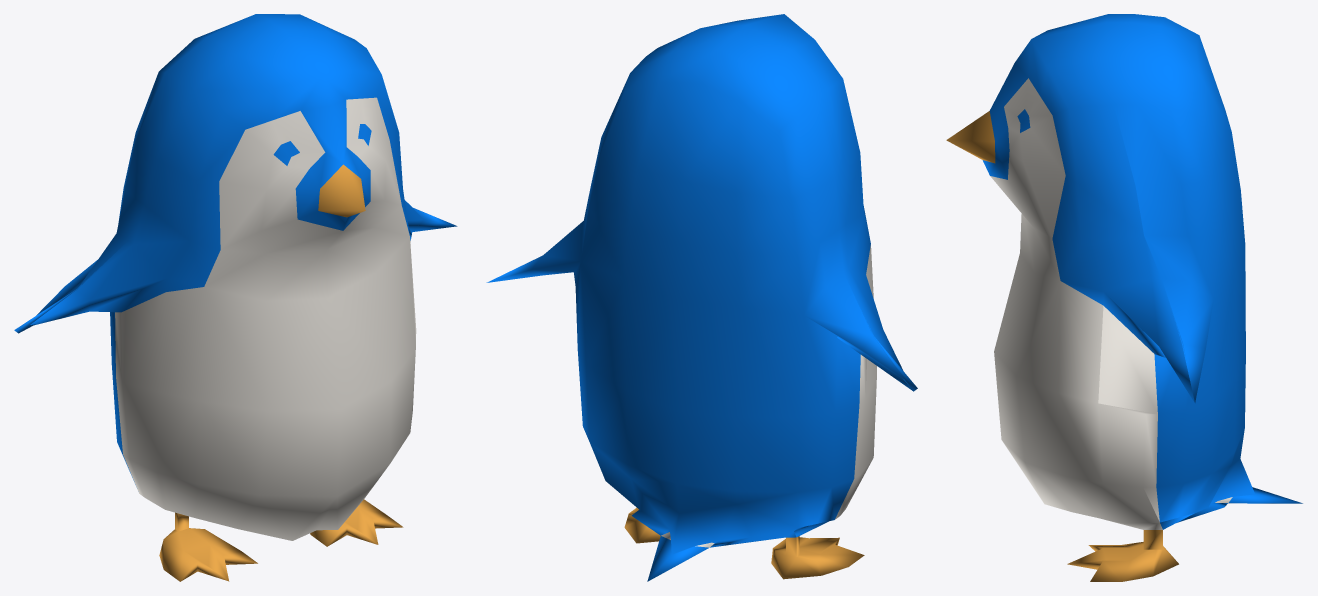
Rendered from penguin-blue.fbx.
The picture shows the model from 3 angles, left to right: view 1: azimuth 30°, elevation 25°; view 2: azimuth 150°, elevation 25°; view 3: azimuth 270°, elevation 25°; orthographic projection. The views are drawn at different scales.
Visible parts, largest first — view 1: Cube.002; view 2: Cube.002; view 3: Cube.002.
Part boxes in pixels (x1=…): Cube.002: x1=14, y1=14, x2=457, y2=581; Cube.002: x1=486, y1=14, x2=917, y2=581; Cube.002: x1=946, y1=14, x2=1302, y2=581.
Bounding box in the file's own units: 220 × 248 × 159.
